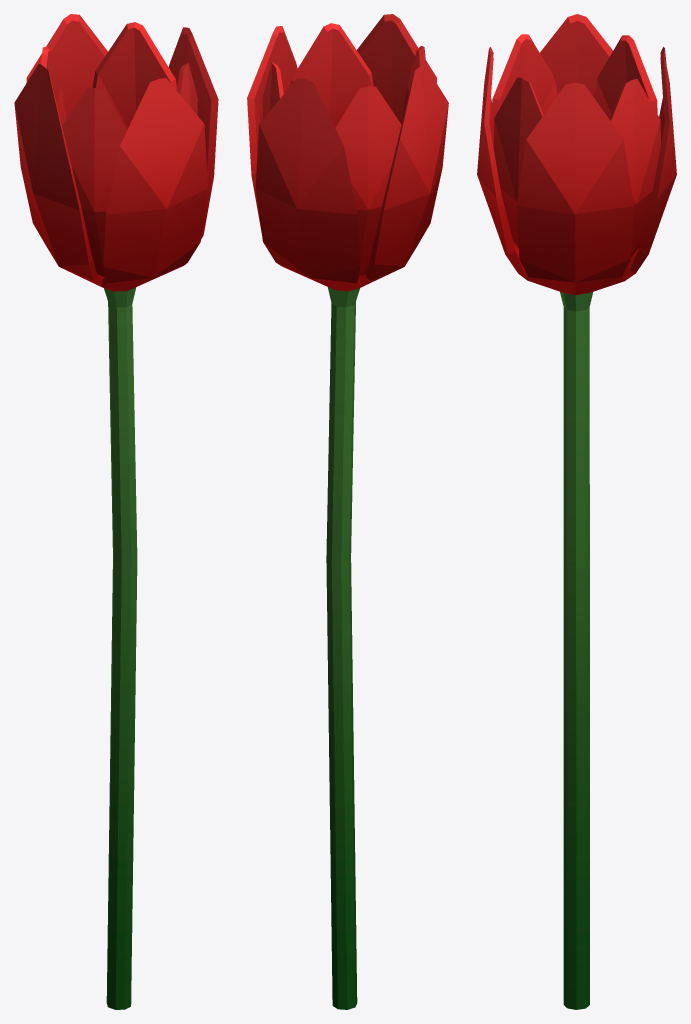
File: Flower_Rose_01.fbx
3 renders of one model, left to right at view 1: azimuth 30°, elevation 25°; view 2: azimuth 150°, elevation 25°; view 3: azimuth 270°, elevation 25°, orthographic.
Visible parts, largest first — view 1: Flower_Rose_01; view 2: Flower_Rose_01; view 3: Flower_Rose_01.
Boxes of the visible parts, x1,y1,x2,y2 form: Flower_Rose_01: (14, 14, 218, 1009); Flower_Rose_01: (247, 14, 448, 1009); Flower_Rose_01: (477, 14, 676, 1009).
Bounding box in the file's own units: 10.49 × 57.58 × 10.92.
